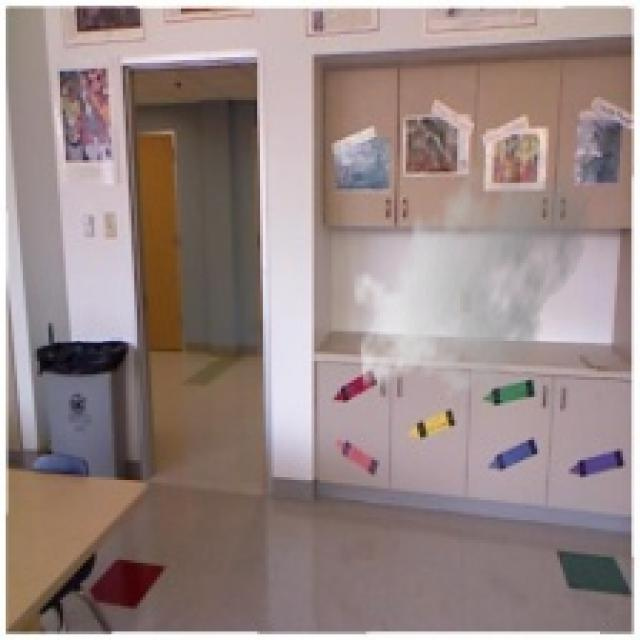smoke: (352, 146, 592, 403)
